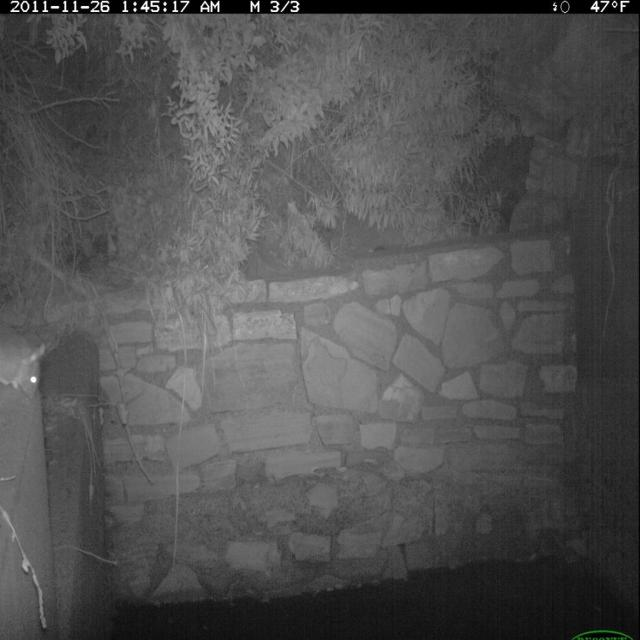rodent: (1, 327, 48, 405)
